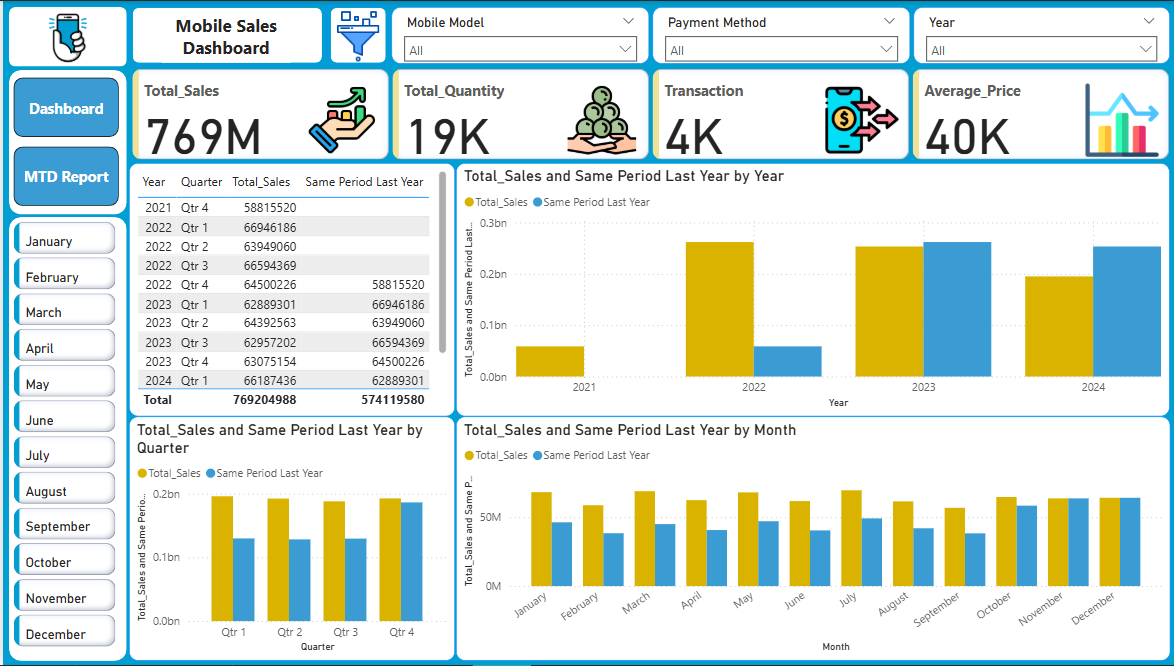

This screenshot's page, from the dashboard's own definition file:
{"tool":"powerbi","page":{"name":"Same Period Last Year","canvas":[1280,725],"ordinal":2},"visuals":[{"type":"shape","box":[6.5,6.5,128.5,65.1],"z":0},{"type":"image","box":[26,0,89.5,79.7],"z":1000},{"type":"shape","box":[6.5,74.8,128.5,157.8],"z":2000},{"type":"shape","box":[6.5,235.8,128.5,484.7],"z":3000},{"type":"advancedSlicerVisual","fields":{"Values":["Custom_Calender.Date.Variation.Date Hierarchy.Month"]},"box":[6.5,235.8,122,484.7],"z":4000},{"type":"cardVisual","fields":{"Data":["Sales_Data.Total_Sales","Sales_Data.Total_Quantity","Sales_Data.Transaction","Sales_Data.Average_Price"]},"box":[136.3,68.1,1143.2,109],"z":5000},{"type":"slicer","fields":{"Values":["Sales_Data.Mobile Model"]},"box":[424.5,6.5,281.4,61.8],"z":6000},{"type":"slicer","fields":{"Values":["Sales_Data.Payment Method"]},"box":[709.2,6.5,281.4,61.8],"z":7000},{"type":"slicer","fields":{"Values":["Custom_Calender.Date.Variation.Date Hierarchy.Year"]},"box":[993.8,6.5,279.8,61.8],"z":8000},{"type":"shape","box":[353,3.3,68.3,68.3],"z":9000},{"type":"image","box":[315.5,4.9,143.1,66.7],"z":10000},{"type":"shape","box":[138.3,3.3,214.7,68.3],"z":11000},{"type":"textbox","box":[174,8.1,139.9,59],"z":12000},{"type":"tableEx","fields":{"Values":["Custom_Calender.Date.Variation.Date Hierarchy.Year","Custom_Calender.Date.Variation.Date Hierarchy.Quarter","Sales_Data.Total_Sales","Sales_Data.Same Period Last Year"]},"box":[138.3,177.3,356.2,276.5],"z":13000},{"type":"clusteredColumnChart","fields":{"Category":["Custom_Calender.Date.Variation.Date Hierarchy.Year","Custom_Calender.Date.Variation.Date Hierarchy.Quarter"],"Y":["Sales_Data.Total_Sales","Sales_Data.Same Period Last Year"]},"box":[494.5,177.3,779.1,276.5],"z":14000},{"type":"clusteredColumnChart","fields":{"Y":["Sales_Data.Total_Sales","Sales_Data.Same Period Last Year"],"Category":["Custom_Calender.Date.Variation.Date Hierarchy.Year","Custom_Calender.Date.Variation.Date Hierarchy.Quarter","Custom_Calender.Date.Variation.Date Hierarchy.Month","Custom_Calender.Date.Variation.Date Hierarchy.Day"]},"box":[495.1,454.3,779.8,266.5],"z":15000},{"type":"clusteredColumnChart","fields":{"Category":["Custom_Calender.Date.Variation.Date Hierarchy.Year","Custom_Calender.Date.Variation.Date Hierarchy.Quarter"],"Y":["Sales_Data.Total_Sales","Sales_Data.Same Period Last Year"]},"box":[138.3,453.8,356.2,266.8],"z":16000},{"type":"pageNavigator","box":[11.4,83,115.5,141.5],"z":17000}]}

Visuals, with their boxes in screenshot pixels (x1, y1, x2, y2), scaled from the page's 1280x725 canvas onto the 1174x666 screenshot:
shape: bbox=(6, 6, 124, 66)
image: bbox=(24, 0, 106, 73)
shape: bbox=(6, 69, 124, 214)
shape: bbox=(6, 217, 124, 662)
advancedSlicerVisual - Custom_Calender.Date.Variation.Date Hierarchy.Month: bbox=(6, 217, 118, 662)
cardVisual - Sales_Data.Total_Sales x Sales_Data.Total_Quantity: bbox=(125, 63, 1173, 163)
slicer - Sales_Data.Mobile Model: bbox=(389, 6, 647, 63)
slicer - Sales_Data.Payment Method: bbox=(650, 6, 909, 63)
slicer - Custom_Calender.Date.Variation.Date Hierarchy.Year: bbox=(912, 6, 1168, 63)
shape: bbox=(324, 3, 386, 66)
image: bbox=(289, 5, 421, 66)
shape: bbox=(127, 3, 324, 66)
textbox: bbox=(160, 7, 288, 62)
tableEx - Custom_Calender.Date.Variation.Date Hierarchy.Year x Custom_Calender.Date.Variation.Date Hierarchy.Quarter: bbox=(127, 163, 454, 417)
clusteredColumnChart - Custom_Calender.Date.Variation.Date Hierarchy.Year x Custom_Calender.Date.Variation.Date Hierarchy.Quarter: bbox=(454, 163, 1168, 417)
clusteredColumnChart - Sales_Data.Total_Sales x Sales_Data.Same Period Last Year: bbox=(454, 417, 1169, 662)
clusteredColumnChart - Custom_Calender.Date.Variation.Date Hierarchy.Year x Custom_Calender.Date.Variation.Date Hierarchy.Quarter: bbox=(127, 417, 454, 662)
pageNavigator: bbox=(10, 76, 116, 206)
